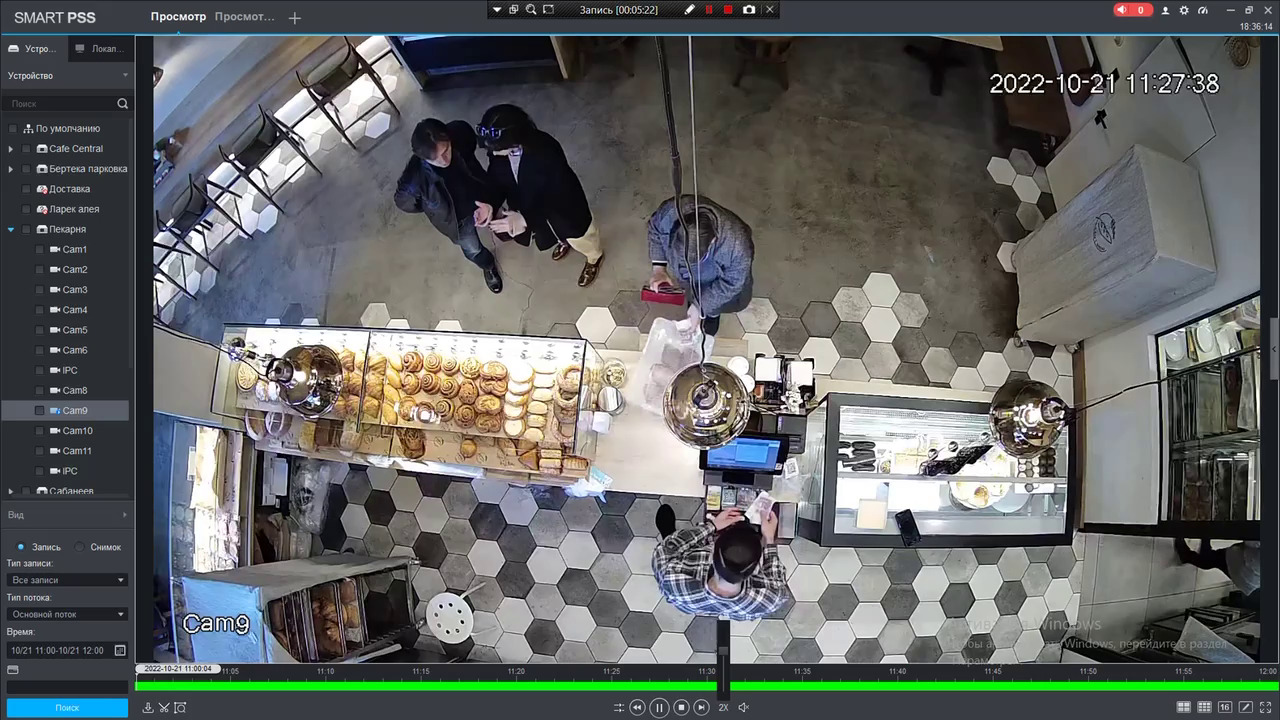openedcash: (698, 426, 788, 535)
pack: (632, 316, 716, 414)
